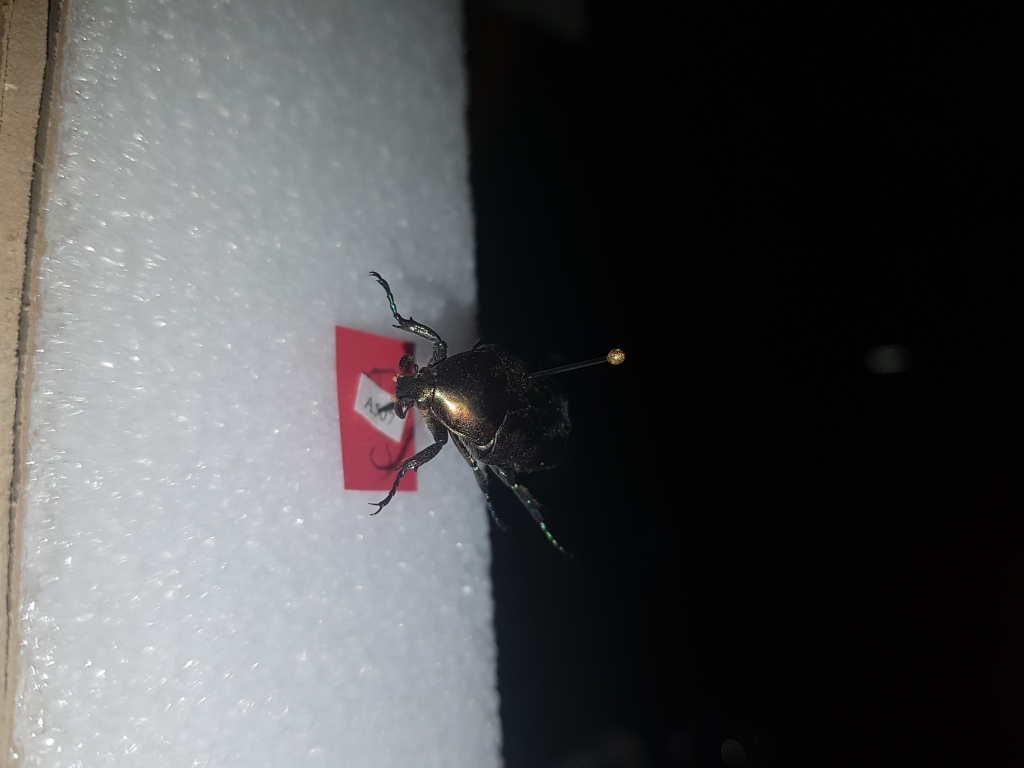Protaetia_besucheti: (355, 259, 611, 573)
